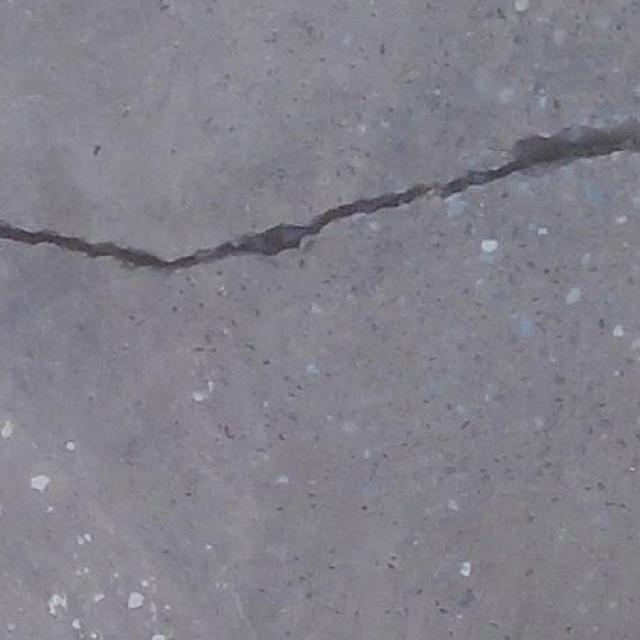horizontal crack: (0, 86, 640, 310)
